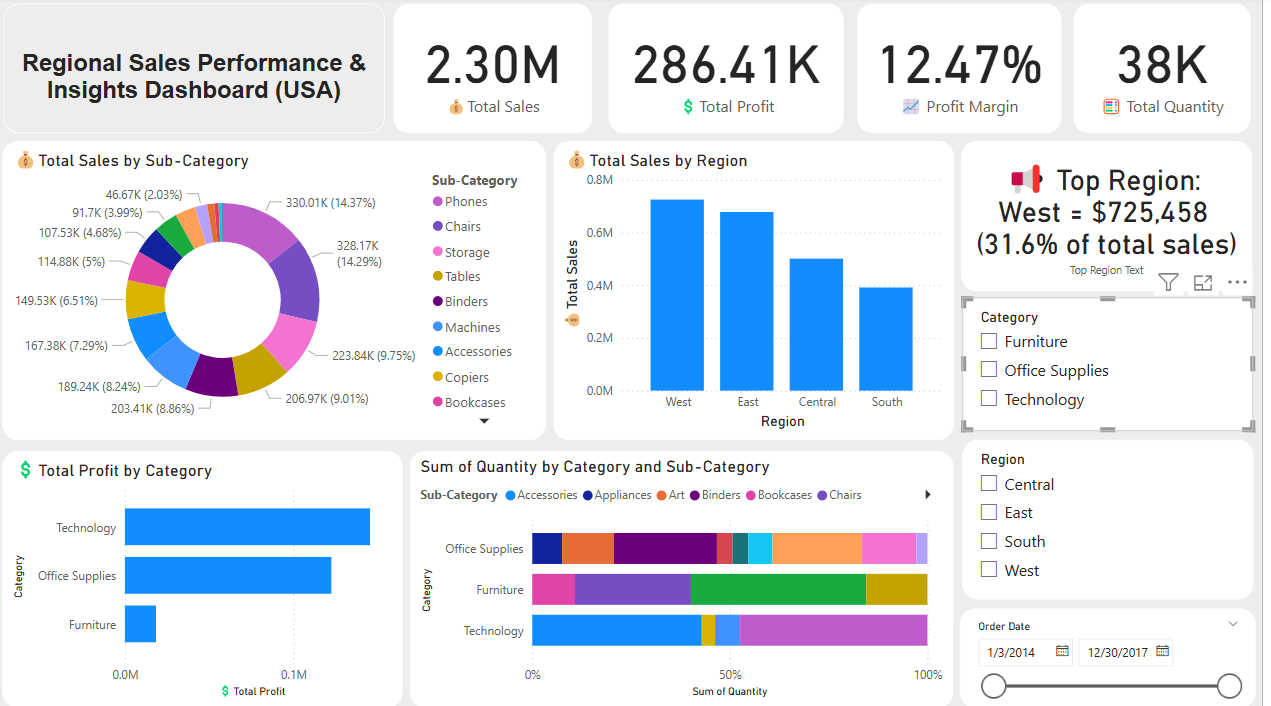

The page's visual inventory and layout, read from the dashboard file:
{"tool":"powerbi","page":{"name":"Page 1","canvas":[1280,720],"ordinal":0},"visuals":[{"type":"card","fields":{"Values":["Detailed Data.Total Sales"]},"box":[401.9,7.3,200.9,131.4],"z":0},{"type":"card","fields":{"Values":["Detailed Data.Total Profit"]},"box":[619.3,7.3,237.6,131.4],"z":1000},{"type":"card","fields":{"Values":["Detailed Data.Profit Margin"]},"box":[870.8,7.3,206,131.4],"z":2000},{"type":"card","fields":{"Values":["Detailed Data.Total Quantity"]},"box":[1089.4,7.3,179.5,131.4],"z":3000},{"type":"slicer","fields":{"Values":["Detailed Data.Region"]},"box":[976.9,448.7,294.5,161.8],"z":4000},{"type":"slicer","fields":{"Values":["Detailed Data.Category"]},"box":[976.9,304.6,294.5,135.2],"z":5000},{"type":"clusteredColumnChart","fields":{"Category":["Detailed Data.Region"],"Y":["Detailed Data.Total Sales"]},"box":[563.7,146.6,404.4,302.1],"z":6000},{"type":"clusteredBarChart","fields":{"Y":["Detailed Data.Total Profit"],"Category":["Detailed Data.Category"]},"box":[6.3,460,404.4,260.3],"z":7000},{"type":"donutChart","fields":{"Category":["Detailed Data.Sub-Category"],"Y":["Detailed Data.Total Sales"]},"box":[6.3,146.6,549.8,302.1],"z":8000},{"type":"hundredPercentStackedBarChart","fields":{"Series":["Detailed Data.Sub-Category"],"Y":["Sum(Detailed Data.Quantity)"],"Category":["Detailed Data.Category"]},"box":[418.3,460,549.8,260.3],"z":9000},{"type":"textbox","box":[7.6,7.6,385.5,131.4],"z":10000},{"type":"card","fields":{"Values":["Detailed Data.Top Region Text"]},"box":[975.7,146.6,294.5,151.7],"z":11000},{"type":"slicer","fields":{"Values":["Detailed Data.Order Date"]},"box":[974.4,619.3,299.5,101.1],"z":12000}]}

Visuals, with their boxes in screenshot pixels (x1, y1, x2, y2), scaled from the page's 1280x720 canvas onto the 1271x706 screenshot:
card - Detailed Data.Total Sales: select_region(399, 7, 599, 136)
card - Detailed Data.Total Profit: select_region(615, 7, 851, 136)
card - Detailed Data.Profit Margin: select_region(865, 7, 1069, 136)
card - Detailed Data.Total Quantity: select_region(1082, 7, 1260, 136)
slicer - Detailed Data.Region: select_region(970, 440, 1262, 599)
slicer - Detailed Data.Category: select_region(970, 299, 1262, 431)
clusteredColumnChart - Detailed Data.Region x Detailed Data.Total Sales: select_region(560, 144, 961, 440)
clusteredBarChart - Detailed Data.Total Profit x Detailed Data.Category: select_region(6, 451, 408, 705)
donutChart - Detailed Data.Sub-Category x Detailed Data.Total Sales: select_region(6, 144, 552, 440)
hundredPercentStackedBarChart - Detailed Data.Sub-Category x Sum(Detailed Data.Quantity): select_region(415, 451, 961, 705)
textbox: select_region(8, 7, 390, 136)
card - Detailed Data.Top Region Text: select_region(969, 144, 1261, 292)
slicer - Detailed Data.Order Date: select_region(968, 607, 1265, 705)
